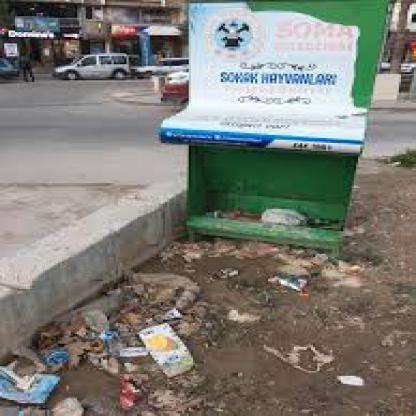Garbage: (135, 314, 219, 393), (0, 360, 88, 402), (114, 354, 168, 406), (280, 334, 346, 374), (260, 200, 298, 226), (43, 349, 75, 370)
